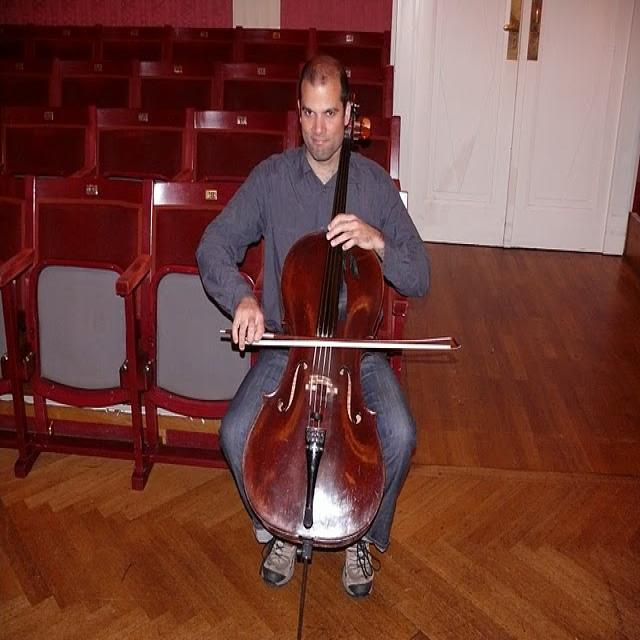cello: (240, 91, 388, 547)
